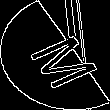M_NE: (13, 22, 97, 88)
